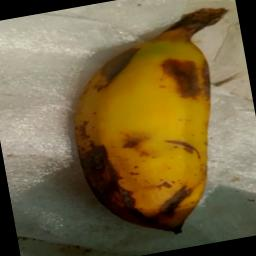Banana Overripe: (54, 2, 256, 252)
